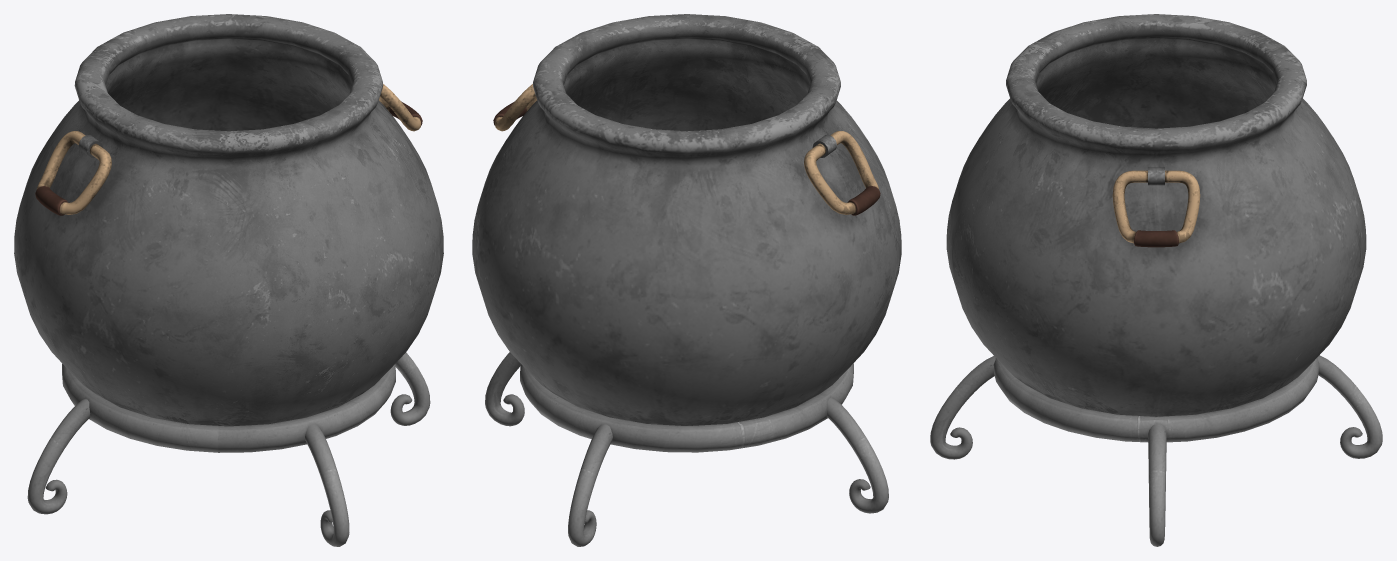
File: cauldron.glb
The picture shows the model from 3 angles, left to right: view 1: azimuth 30°, elevation 25°; view 2: azimuth 150°, elevation 25°; view 3: azimuth 270°, elevation 25°; orthographic projection. The views are drawn at different scales.
Parts seen in each view (by area): view 1: CauldronPot_low, Stand_low, Standlegs_low, CauldronHandle_low; view 2: CauldronPot_low, Stand_low, Standlegs_low, CauldronHandle_low; view 3: CauldronPot_low, Stand_low, Standlegs_low, CauldronHandle_low.
Part boxes in pixels (box(x1,y1,x2,y2)): CauldronPot_low: box(14, 14, 443, 426); Stand_low: box(62, 363, 395, 452); Standlegs_low: box(27, 352, 430, 546); CauldronHandle_low: box(35, 84, 422, 215); CauldronPot_low: box(472, 14, 901, 425); Stand_low: box(520, 363, 853, 452); Standlegs_low: box(485, 352, 888, 546); CauldronHandle_low: box(493, 84, 880, 215); CauldronPot_low: box(946, 14, 1366, 416); Stand_low: box(993, 358, 1319, 442); Standlegs_low: box(930, 355, 1382, 546); CauldronHandle_low: box(1112, 170, 1200, 247).
Bounding box in the file's own units: 1.06 × 0.9934 × 1.06.
Materials: 1 (1 with a texture image).
